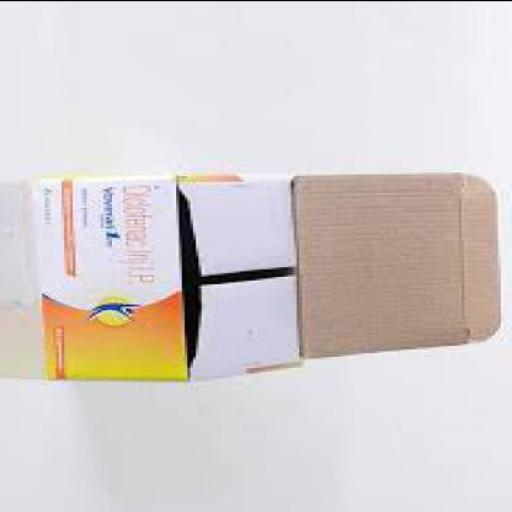cardboard: (36, 168, 501, 380)
